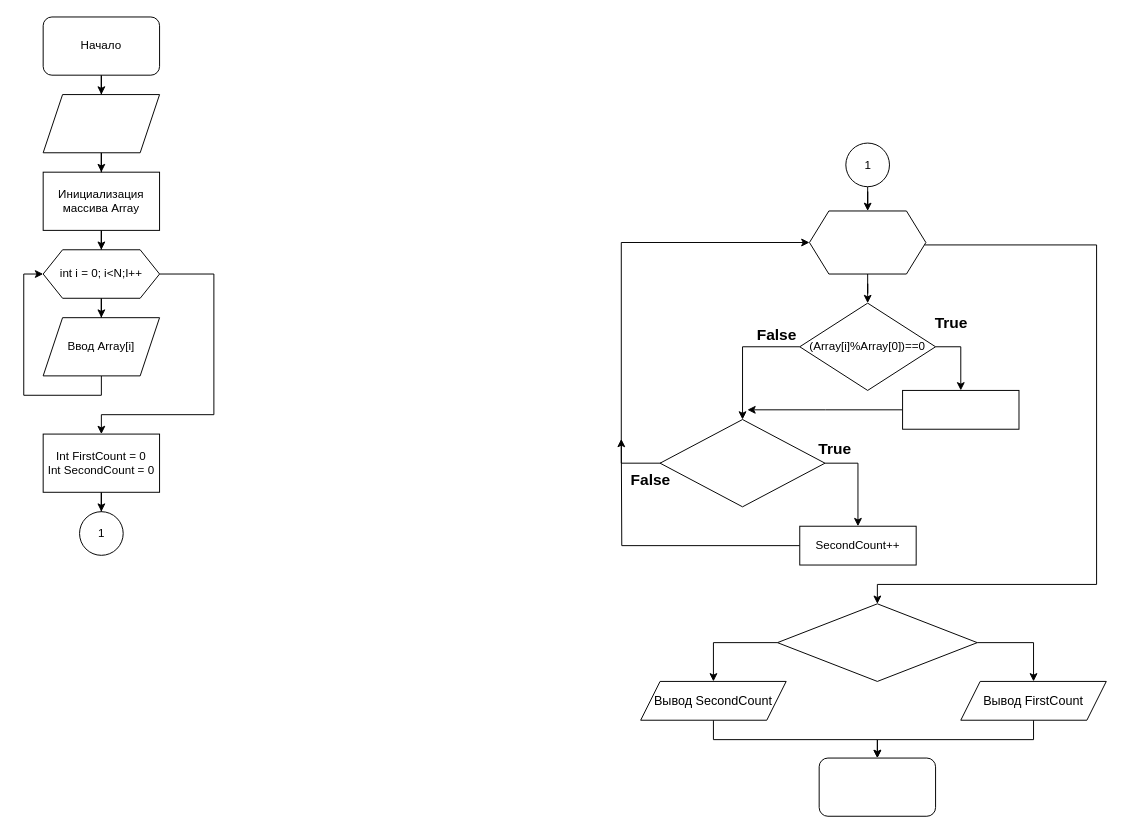
Image size: 1123x833. Some labels were removed from this diagram. The shapes that lost their labels are listed below. From the top down, each one's centre as x and y in pixels, then its label:
At (x=101, y=123): "Ввод int N".
At (x=867, y=242): "int i = 0; i<N; i++".
At (x=960, y=409): "FirstCount++".
At (x=742, y=463): "(Array[i]%Array[N-1])==0".
At (x=876, y=642): "FirstCount>SecondCount".
At (x=877, y=786): "Конец".
